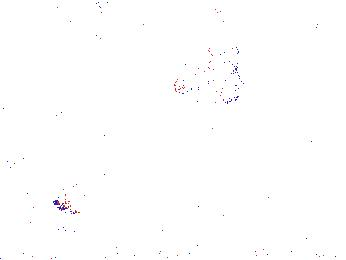flame jellyfish: (217, 167, 290, 222), (172, 56, 248, 106), (48, 161, 101, 217)
